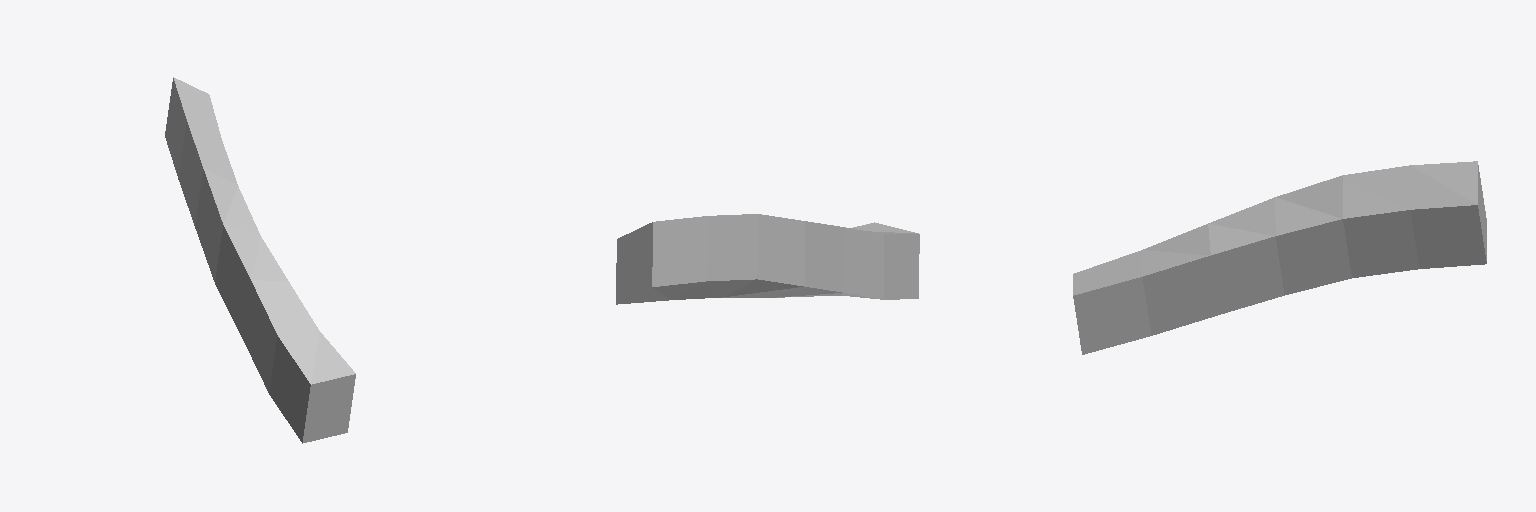
The model's file is curved_ramp_left_gravity_shape.obj.
3 views of the same model, side by side, from view 1: azimuth 30°, elevation 25°; view 2: azimuth 150°, elevation 25°; view 3: azimuth 270°, elevation 25° (orthographic).
Visible parts, largest first — view 1: CurvedSlopeMainMesh_Cube.001; view 2: CurvedSlopeMainMesh_Cube.001; view 3: CurvedSlopeMainMesh_Cube.001.
Part boxes in pixels (left/top/right/bottom): CurvedSlopeMainMesh_Cube.001: left=165, top=77, right=355, bottom=443; CurvedSlopeMainMesh_Cube.001: left=616, top=214, right=919, bottom=304; CurvedSlopeMainMesh_Cube.001: left=1073, top=161, right=1486, bottom=354.
Size of the model in its own units: 0.9769 by 1.83 by 3.35.